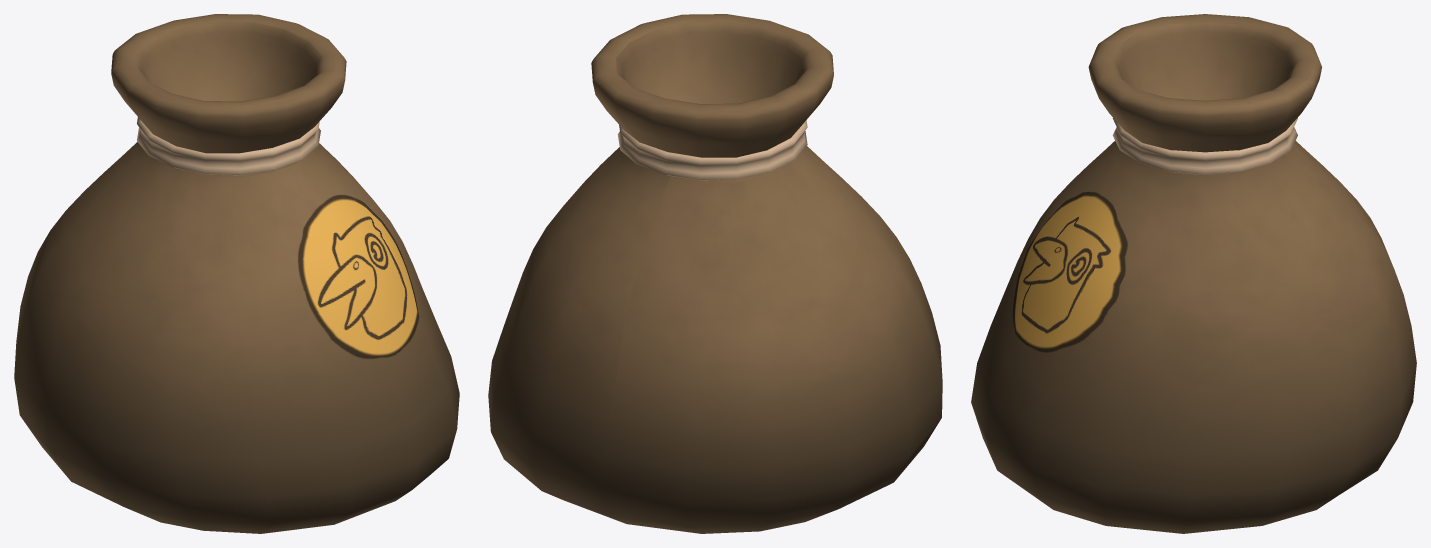
The model's file is Money Bag.fbx.
3 views of the same model, side by side, from view 1: azimuth 30°, elevation 25°; view 2: azimuth 150°, elevation 25°; view 3: azimuth 270°, elevation 25° (orthographic). The views are drawn at different scales.
Parts seen in each view (by area): view 1: Cylinder.001; view 2: Cylinder.001; view 3: Cylinder.001.
Boxes of the visible parts, x1=… form: Cylinder.001: x1=14, y1=14, x2=459, y2=533; Cylinder.001: x1=488, y1=14, x2=942, y2=533; Cylinder.001: x1=971, y1=14, x2=1416, y2=533.
Size of the model in its own units: 526 by 556 by 533.
Materials: 1 (1 with a texture image).
